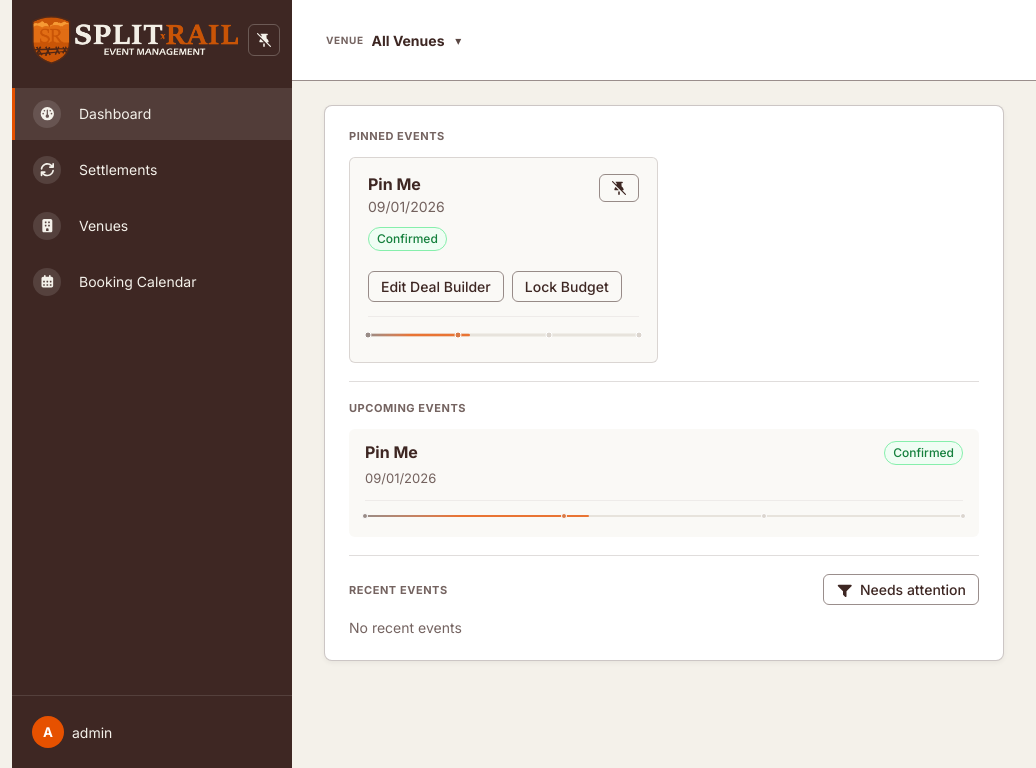
DashboardOverviewPage › failed unpin reverts optimistic state and shows error
Step 1. Click the button named "Unpin event" → coordinates (619, 188), box [599,174,639,202]
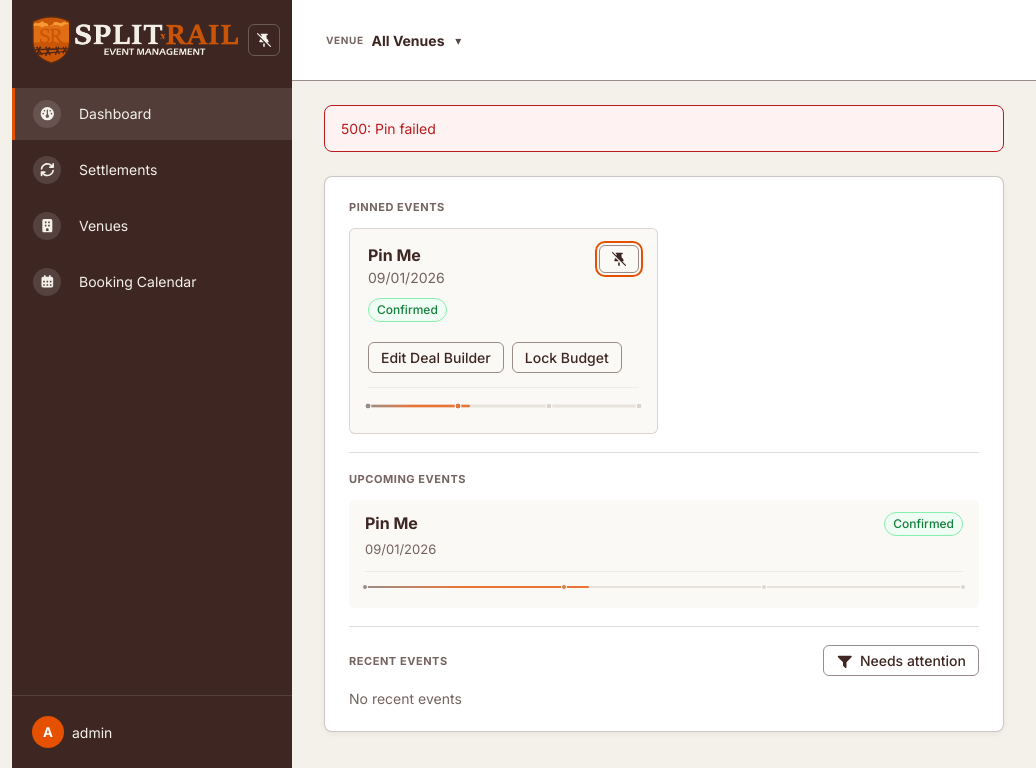
Expected: the heading "Pin Me" below "Pinned events" is shown, [368,244,421,264]
Now the message "500: Pin failed" is shown, box [324,105,1004,152]
